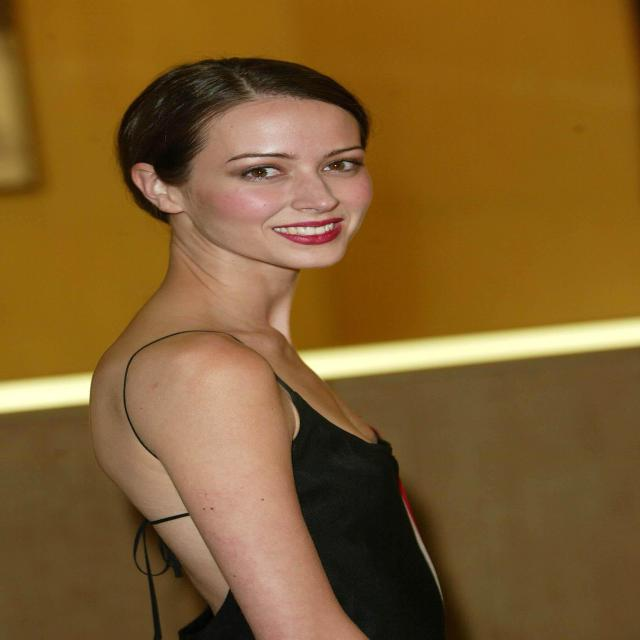no-earmuff: (116, 146, 214, 244)
